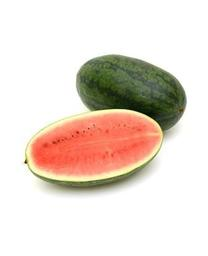watermelon: (21, 108, 161, 191), (74, 52, 186, 132)
